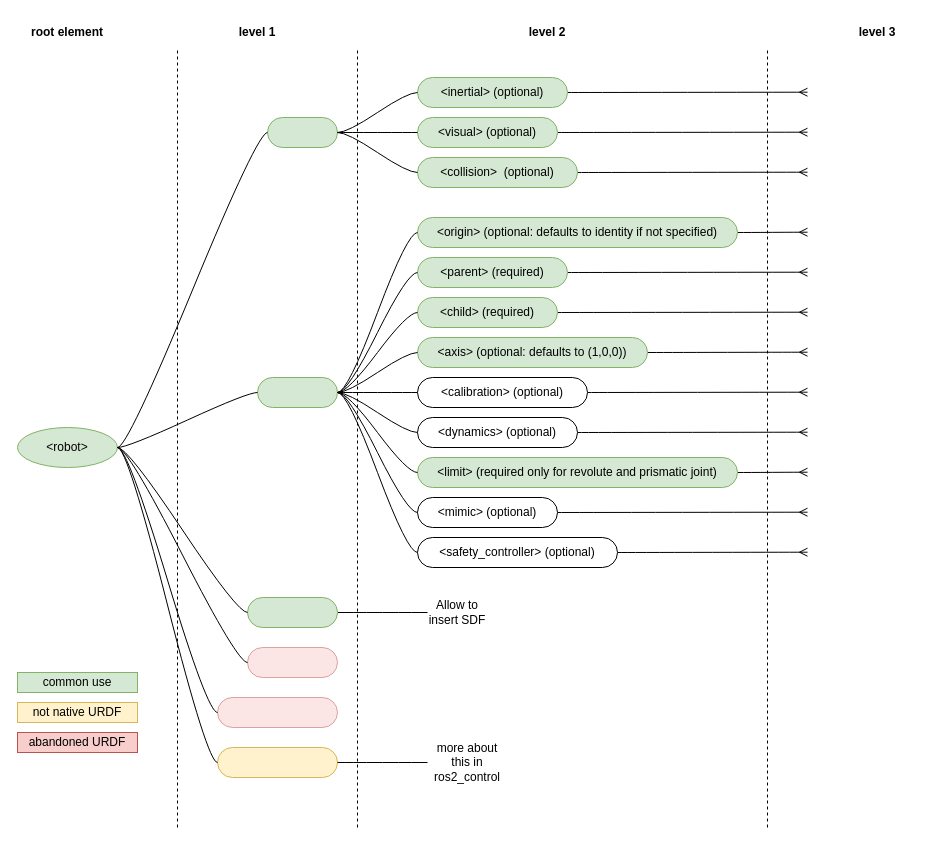
The diagram is 925 pixels wide and 846 high, and some of its shapes have lost their labels. Each missing label, with the box of its shape:
<gazebo>: (246, 596, 338, 628)
<joint>: (256, 376, 338, 408)
<link>: (266, 116, 338, 148)
<ros2_control>: (216, 746, 338, 778)
<sensor>: (246, 646, 338, 678)
<transmission>: (216, 696, 338, 728)
